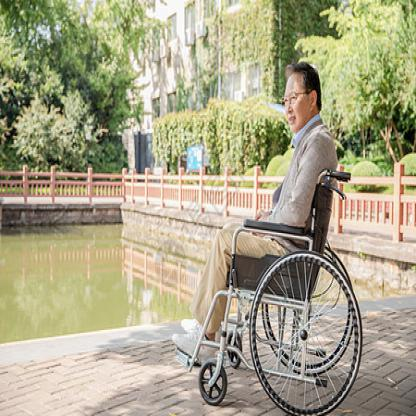wheelchair: (170, 63, 366, 414)
